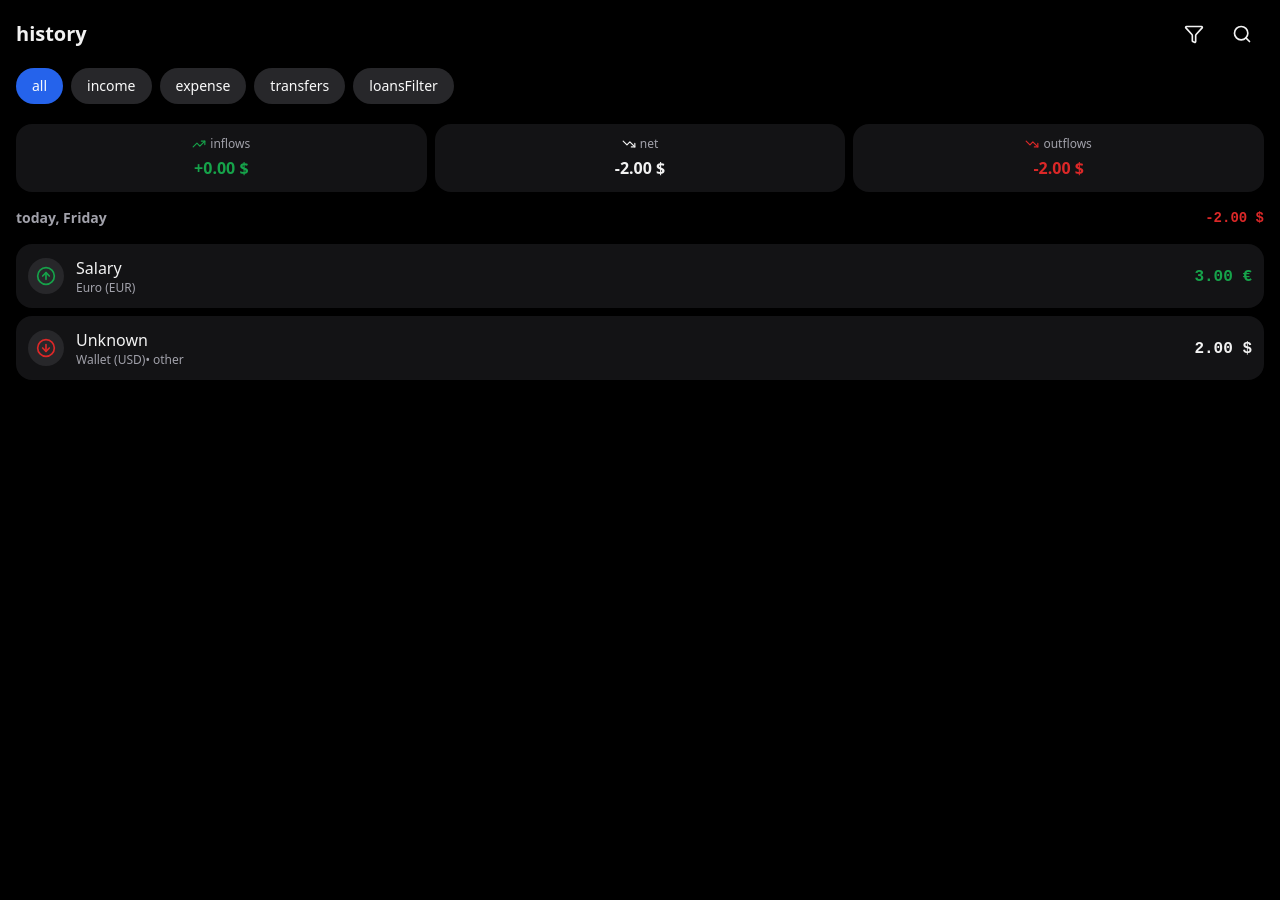
Test: HistoryPage list › hides older transactions for last3Months
What coordinates should you click on to do the following:
click the button with class "lucide-funnel"
I would click on:
 (1194, 34)
Its box is [1172,12,1216,56].
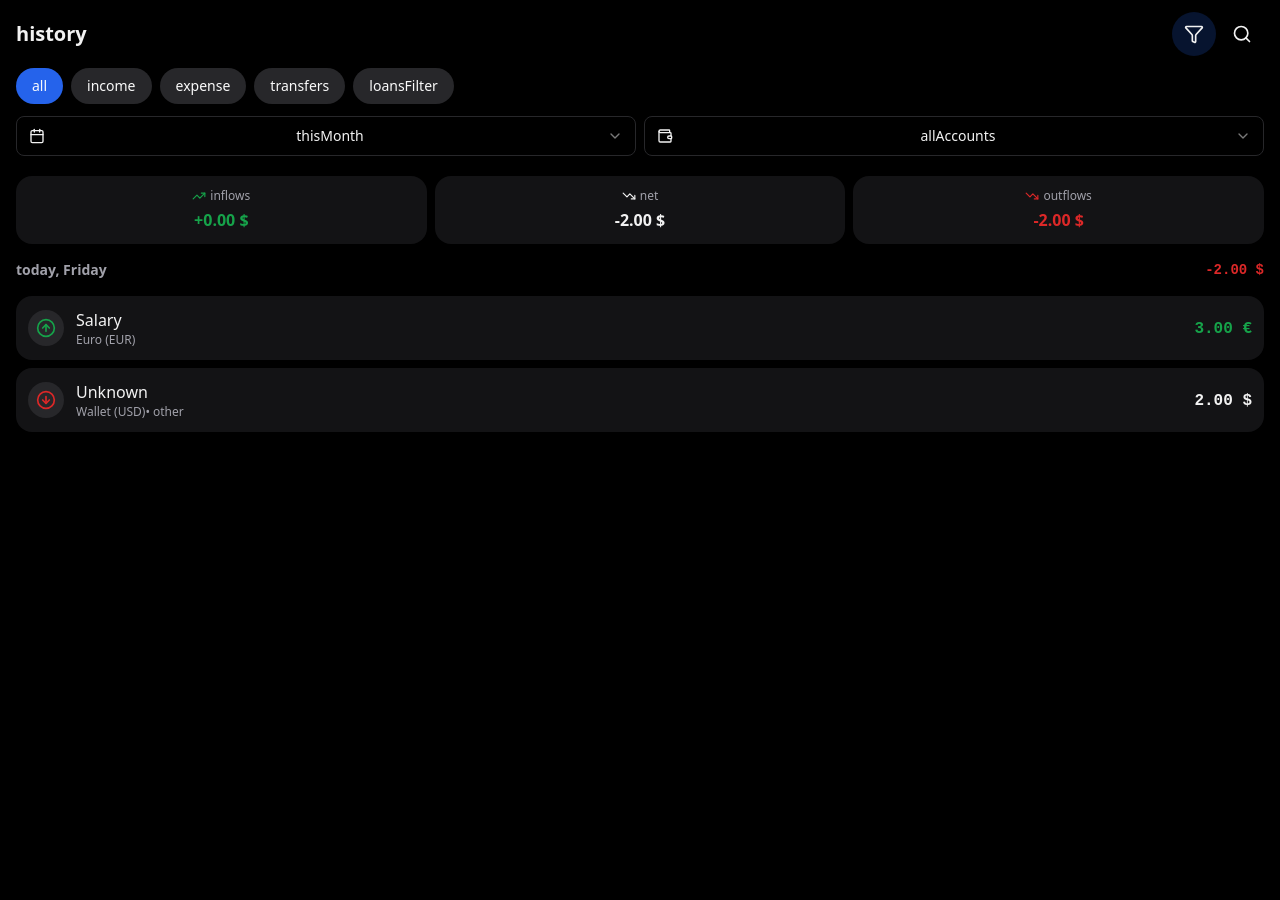
What coordinates should you click on to do the following:
click the button "thisMonth"
I would click on:
 (326, 136)
Its box is [16,116,636,156].
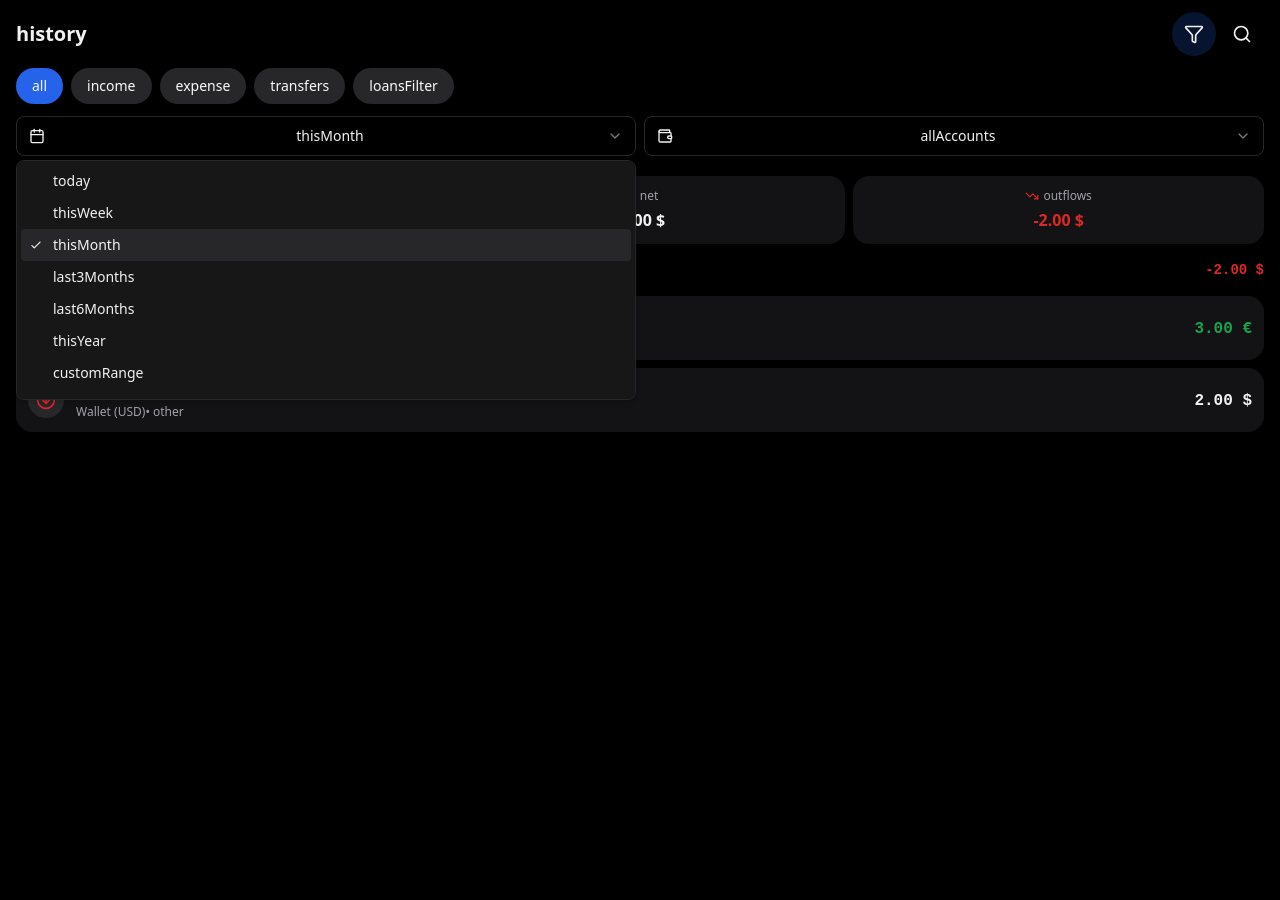
What coordinates should you click on to do the following:
click the option "last3Months"
I would click on:
 (94, 276)
Its box is [53,267,134,286].
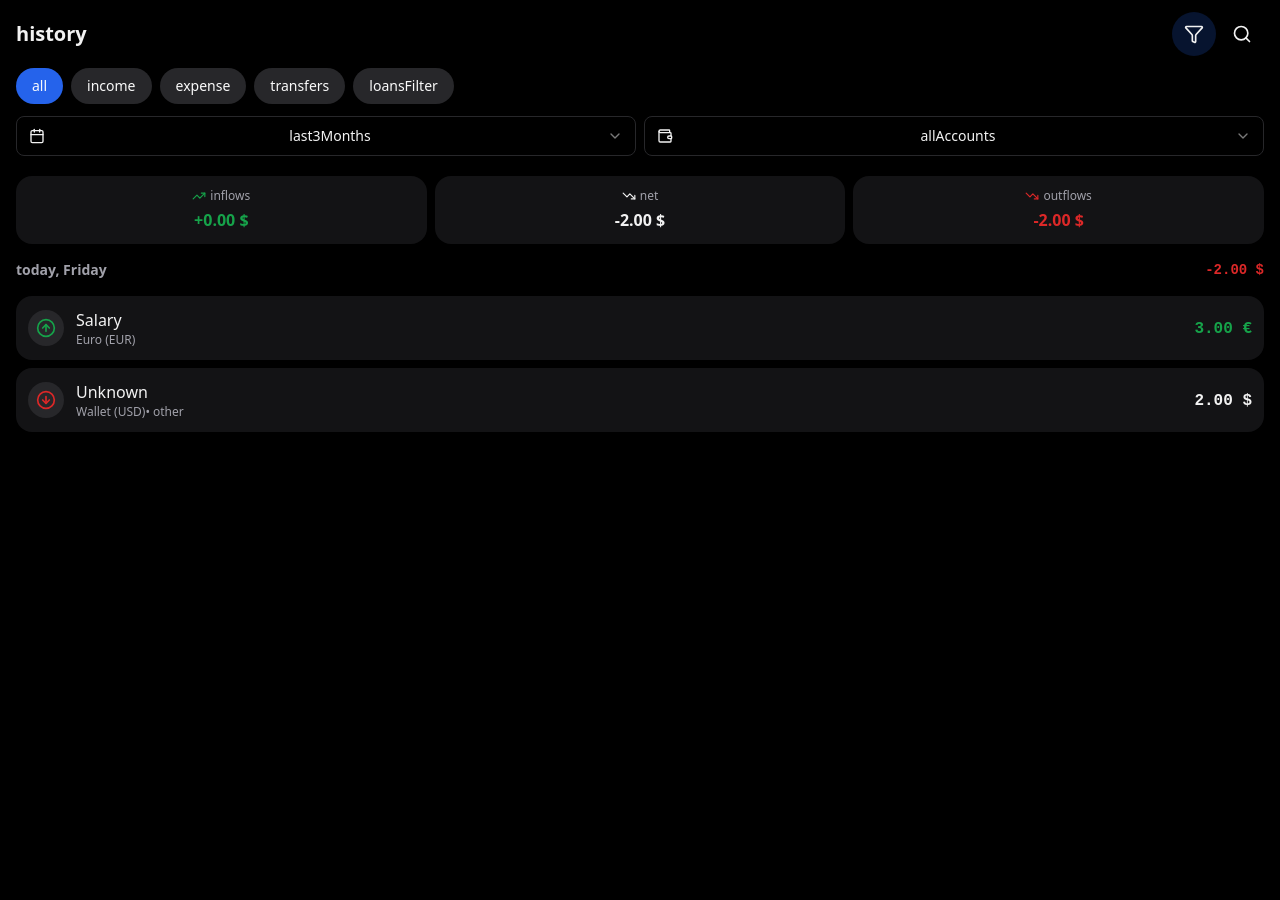
Check: the text "• other" is shown, box [145,404,184,420]
Check: the button "last3Months" is shown, box [16,116,636,156]
